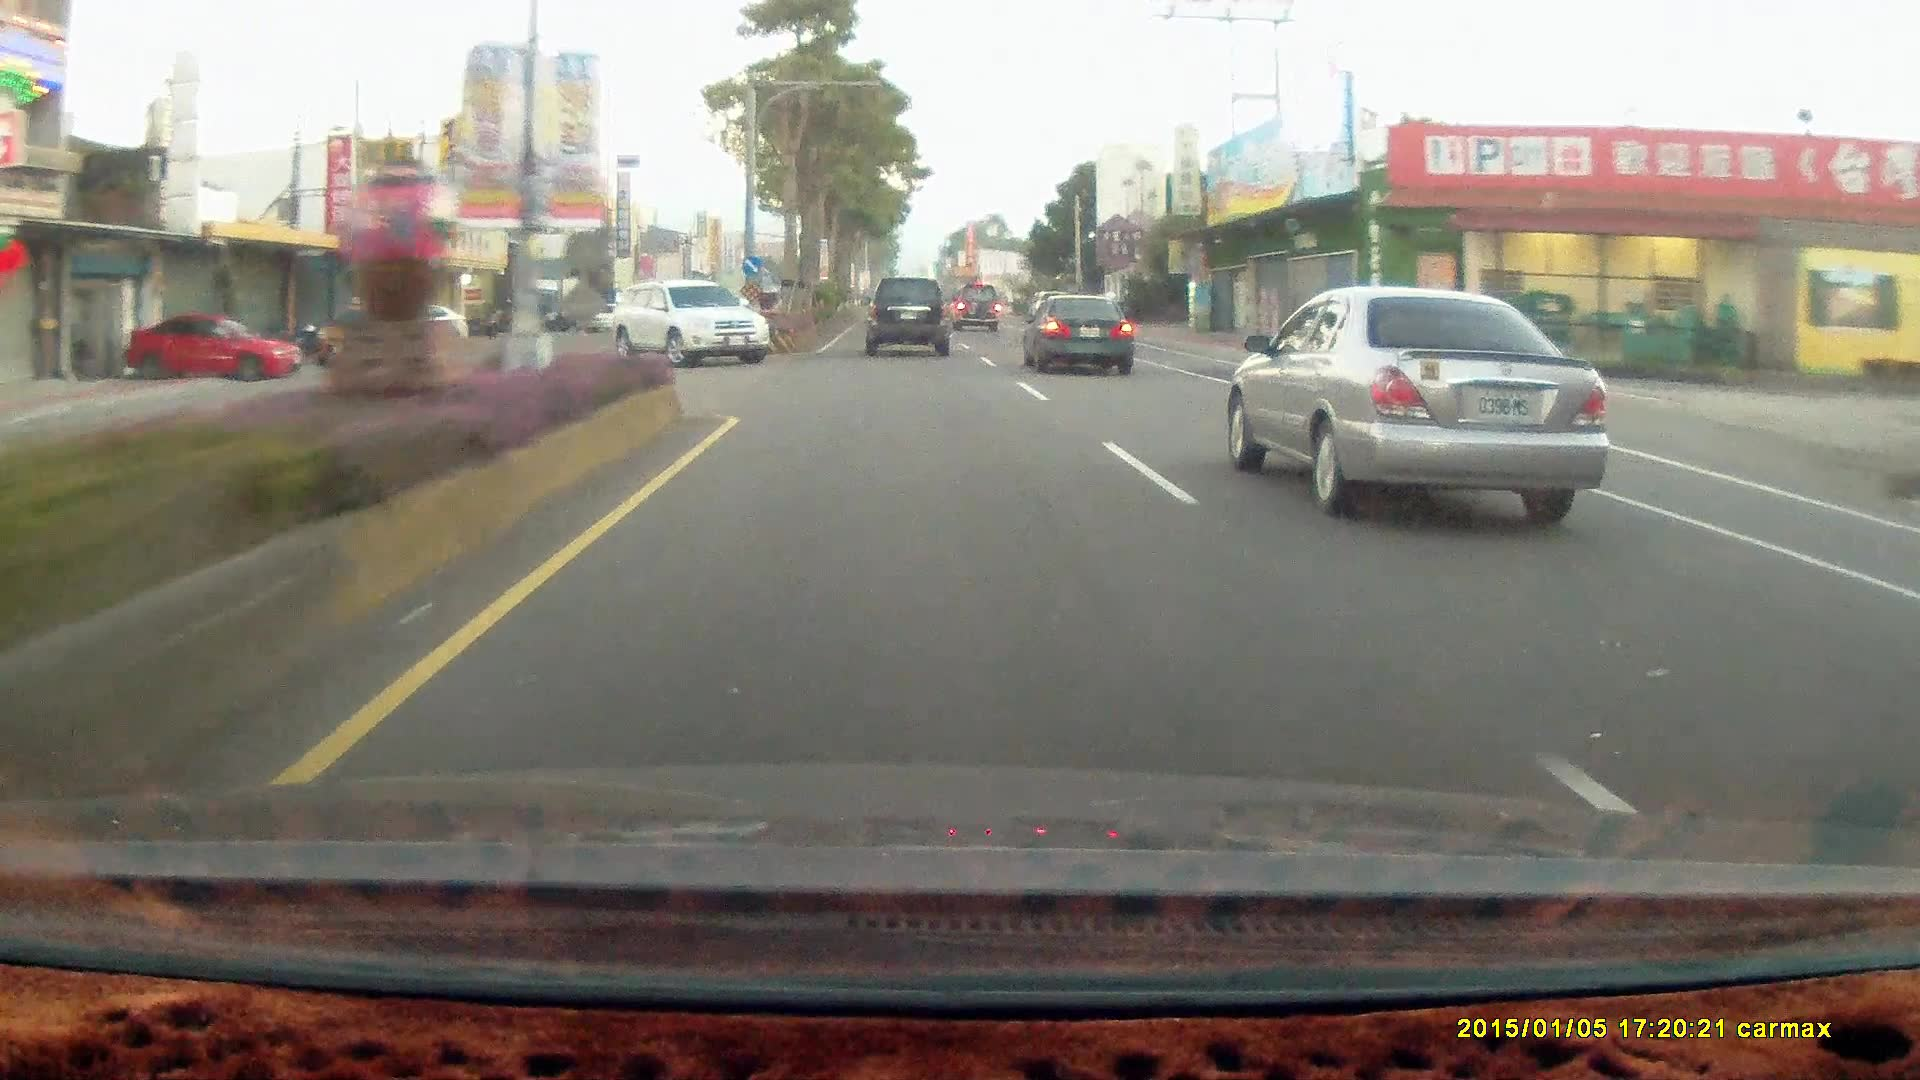vehicle: (1241, 281, 1619, 517), (607, 274, 771, 367), (617, 276, 775, 364), (121, 313, 305, 384), (127, 313, 305, 381), (1021, 287, 1134, 373), (1027, 295, 1138, 376), (868, 277, 957, 357), (865, 276, 949, 353), (373, 302, 469, 348), (949, 282, 1004, 335), (949, 282, 1000, 331)
